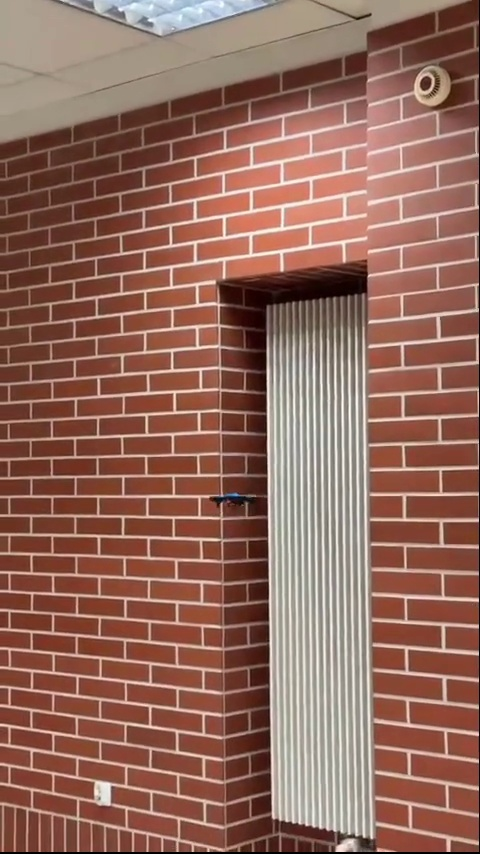drone: (206, 492, 260, 515)
